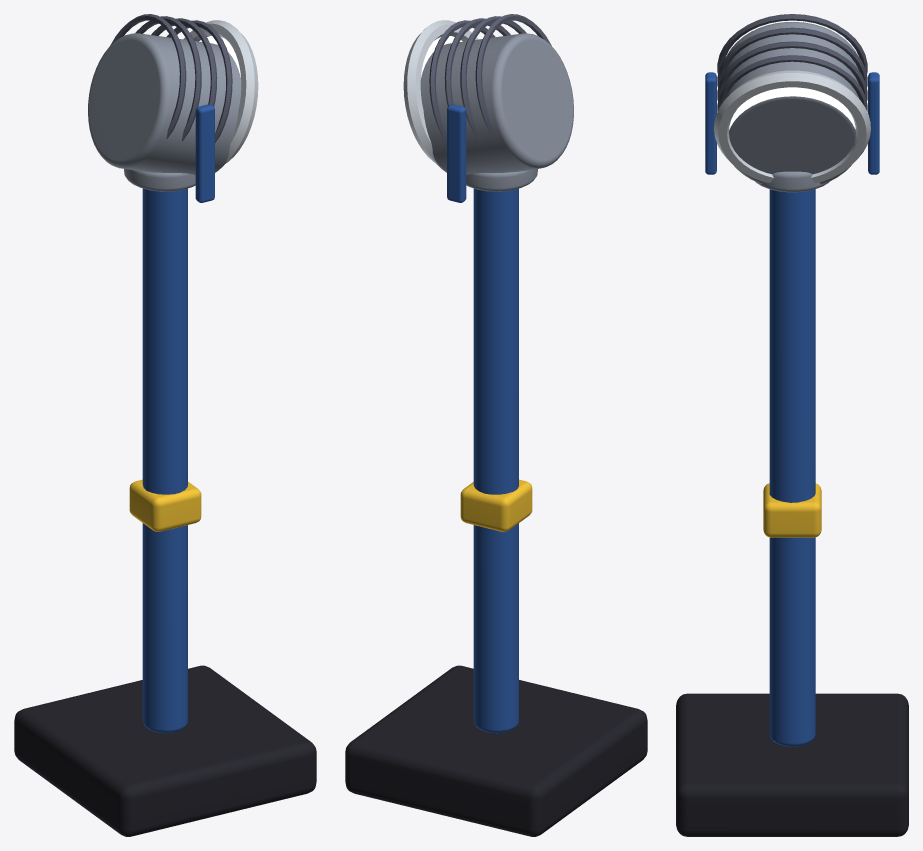
File: searchlight.glb
The picture shows the model from 3 angles, left to right: view 1: azimuth 30°, elevation 25°; view 2: azimuth 150°, elevation 25°; view 3: azimuth 270°, elevation 25°; orthographic projection. The views are drawn at different scales.
Parts seen in each view (by area): view 1: searchlight, head; view 2: searchlight, head; view 3: searchlight, head.
Boxes of the visible parts, left/top/right/bottom form: searchlight: left=14, top=169, right=316, bottom=836; head: left=88, top=14, right=258, bottom=202; searchlight: left=345, top=169, right=647, bottom=836; head: left=403, top=14, right=573, bottom=202; searchlight: left=676, top=171, right=908, bottom=836; head: left=705, top=14, right=879, bottom=184.
Bounding box in the file's own units: 1.2 × 4.42 × 1.2.
Materials: 1 (1 with a texture image).
